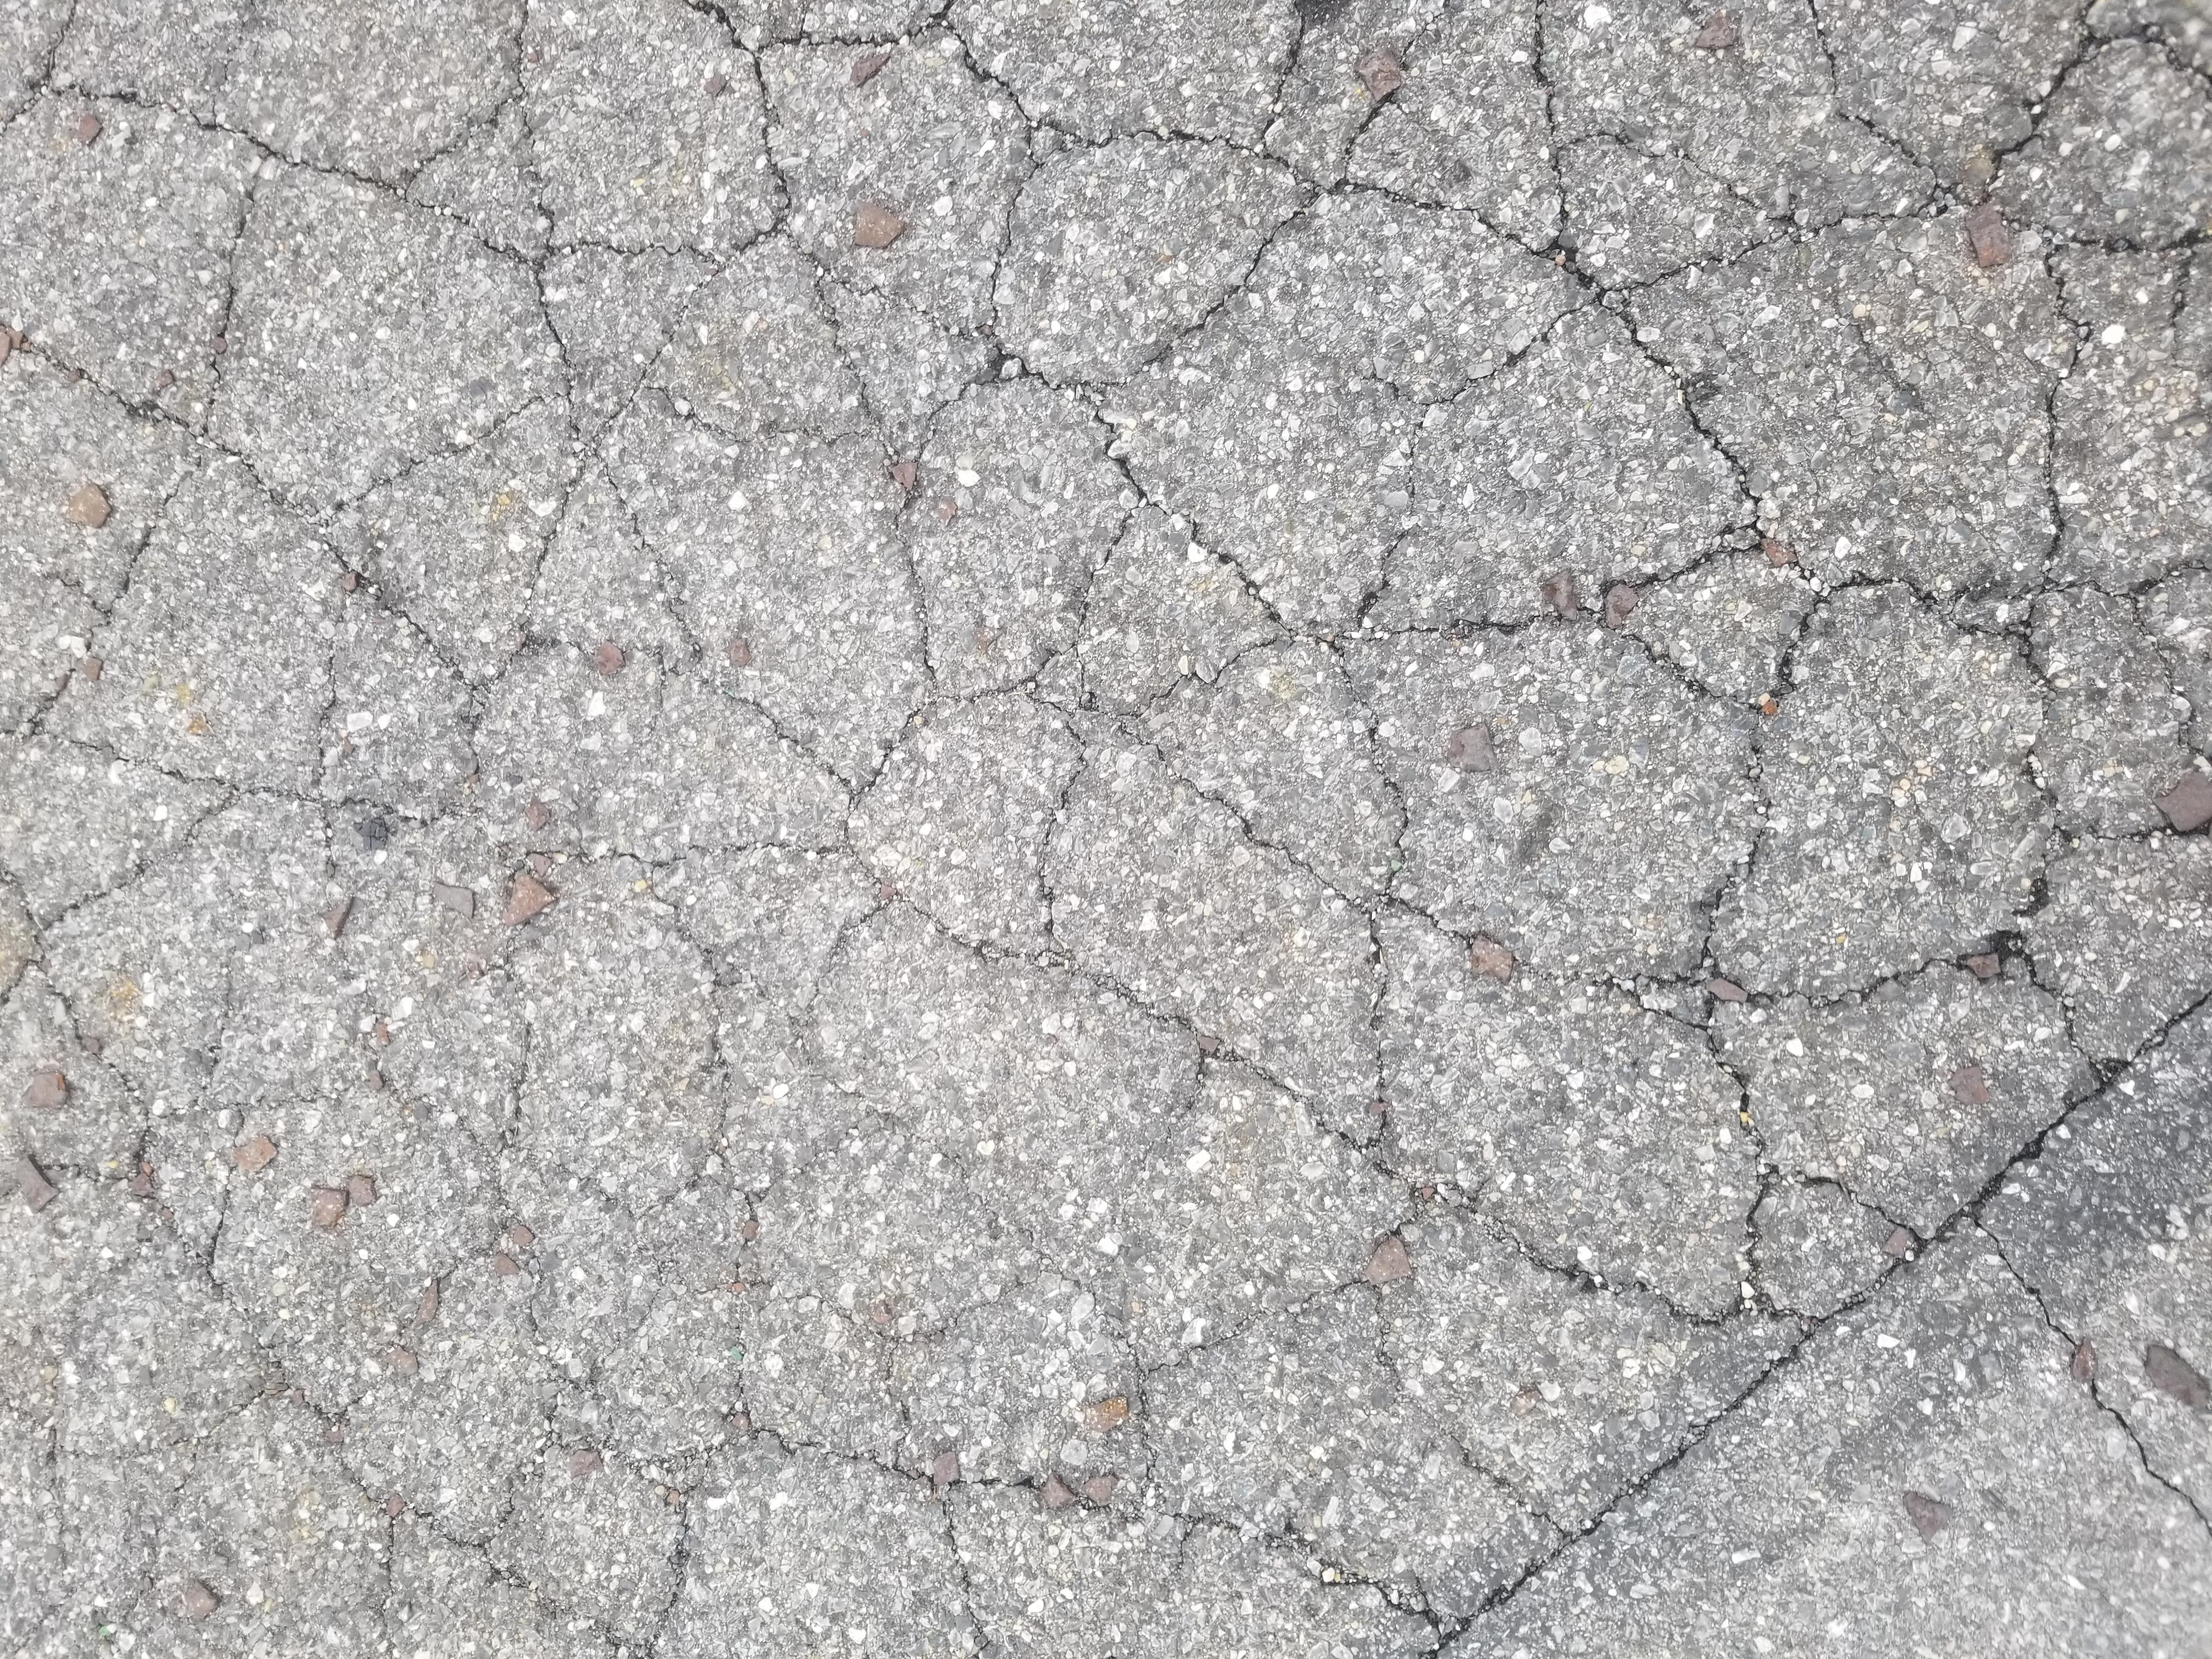alligator-crack: (31, 17, 2212, 1659)
